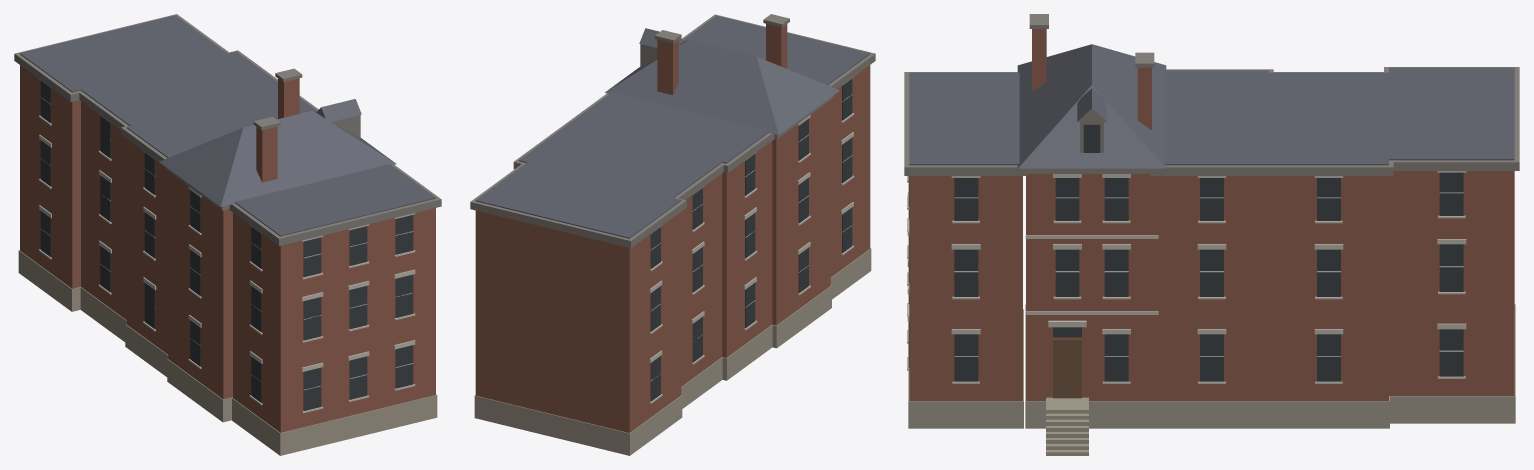
Rendered from house_209_e16th__draft_1904.glb.
3 views of the same model, side by side, from view 1: azimuth 30°, elevation 25°; view 2: azimuth 150°, elevation 25°; view 3: azimuth 270°, elevation 25° (orthographic). The views are drawn at different scales.
Parts seen in each view (by area): view 1: house_209_e16th__draft_1904; view 2: house_209_e16th__draft_1904; view 3: house_209_e16th__draft_1904.
Part boxes in pixels (x1=…): house_209_e16th__draft_1904: x1=14, y1=14, x2=441, y2=455; house_209_e16th__draft_1904: x1=470, y1=14, x2=875, y2=455; house_209_e16th__draft_1904: x1=904, y1=14, x2=1519, y2=455.
Size of the model in its own units: 12.59 by 15.7 by 25.65.
